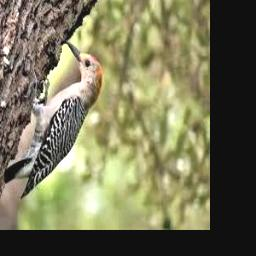Woodpecker: (3, 40, 102, 199)
